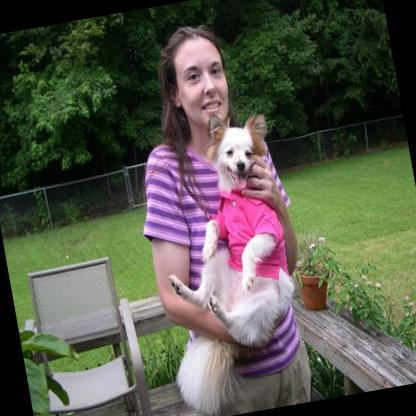Pomeranian: (129, 100, 317, 416)
